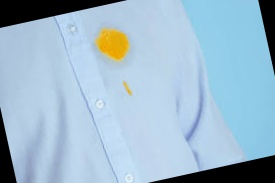mustard: (96, 26, 134, 60), (121, 79, 134, 97)
